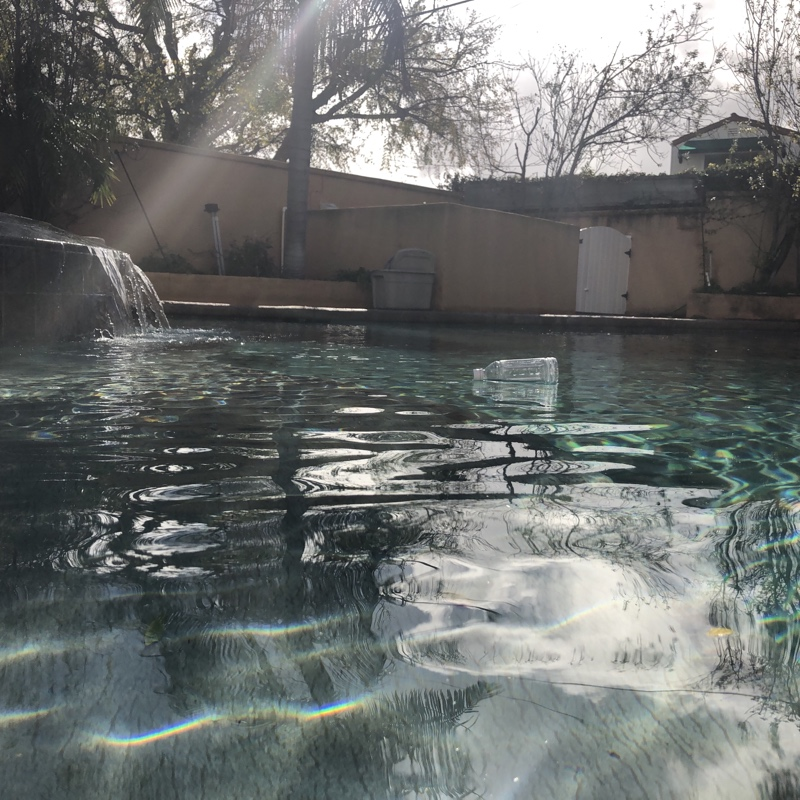Plastic Bottle: (464, 351, 559, 392)
